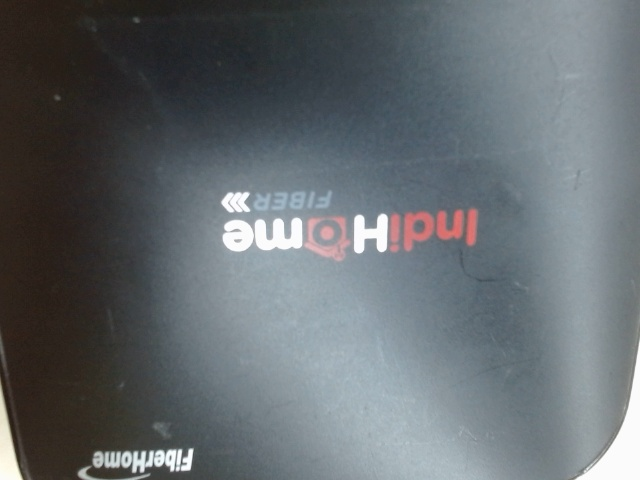AF_IndiHome: (204, 180, 495, 266)
